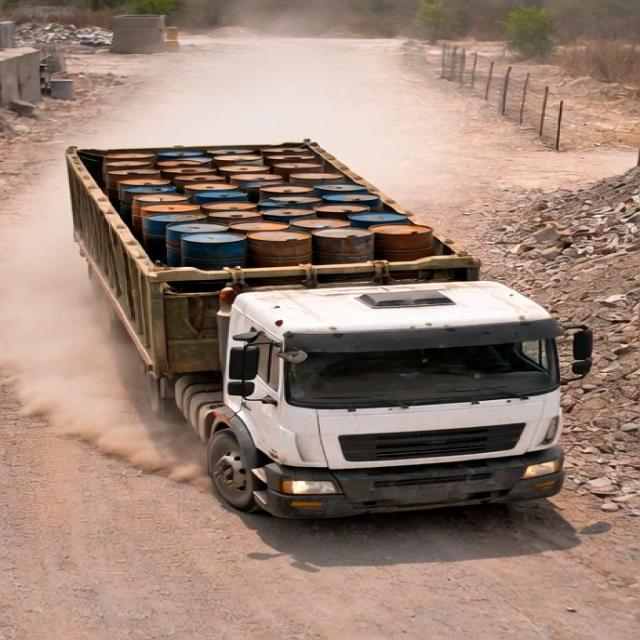trailer: (60, 145, 500, 262)
truck: (45, 127, 605, 553)
